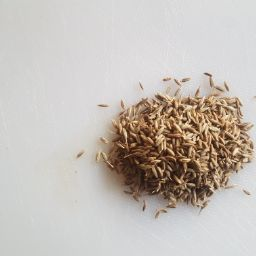Cumin (zeera): (56, 58, 256, 231), (86, 71, 256, 223), (96, 82, 256, 208), (108, 84, 256, 208), (148, 113, 239, 172)
